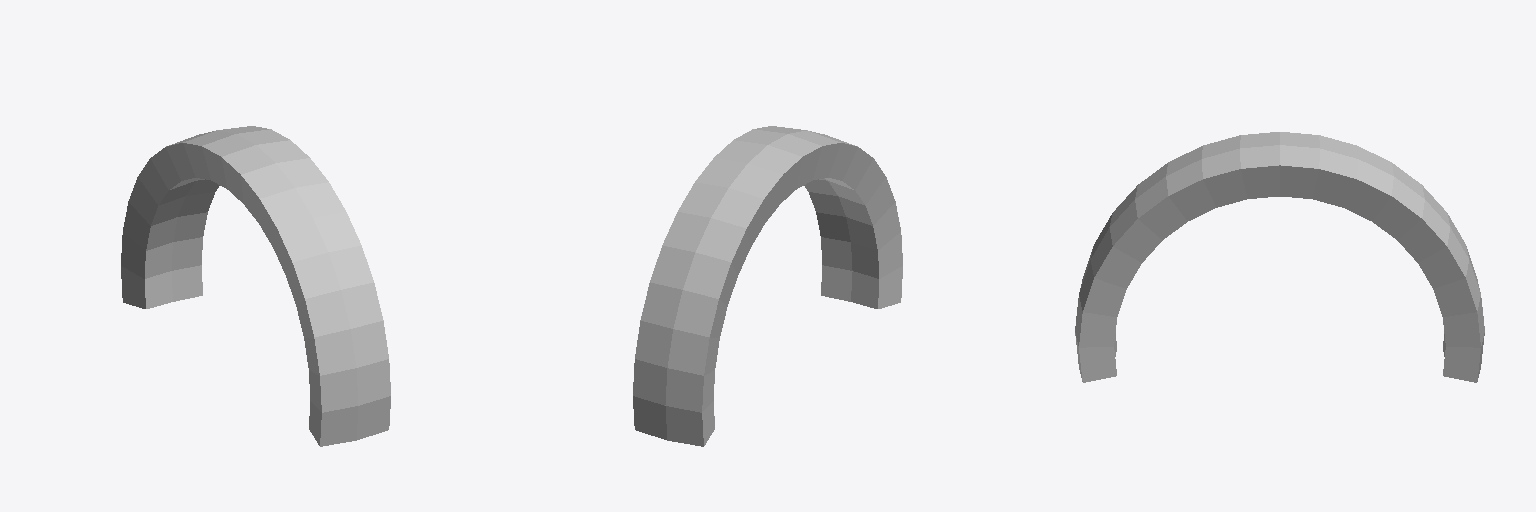
Rendered from halfpipe.obj.
3 renders of one model, left to right at view 1: azimuth 30°, elevation 25°; view 2: azimuth 150°, elevation 25°; view 3: azimuth 270°, elevation 25°, orthographic.
Parts seen in each view (by area): view 1: Sphere; view 2: Sphere; view 3: Sphere.
Part boxes in pixels (bbox=[...]): Sphere: bbox=[121, 126, 390, 446]; Sphere: bbox=[633, 126, 902, 446]; Sphere: bbox=[1075, 132, 1484, 382].
Size of the model in its own units: 0.3902 by 1.2 by 2.